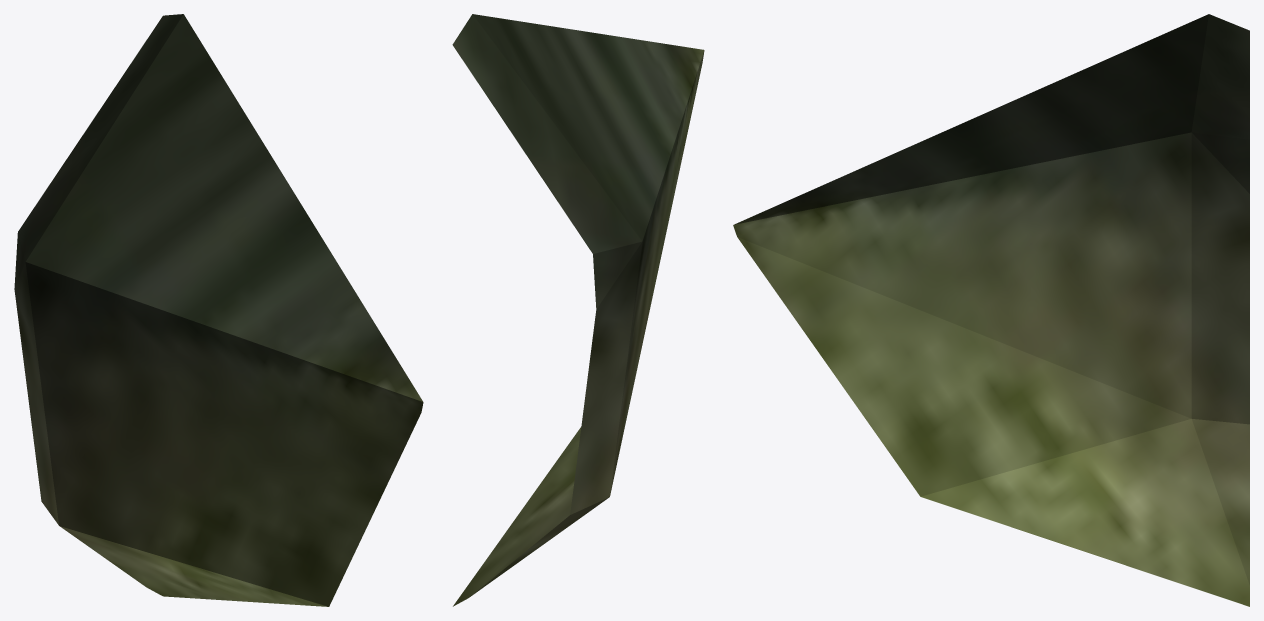
3 renders of one model, left to right at view 1: azimuth 30°, elevation 25°; view 2: azimuth 150°, elevation 25°; view 3: azimuth 270°, elevation 25°, orthographic. The views are drawn at different scales.
Size of the model in its own units: 0.1986 by 0.6794 by 0.5368.
1 material, 1 textured.
